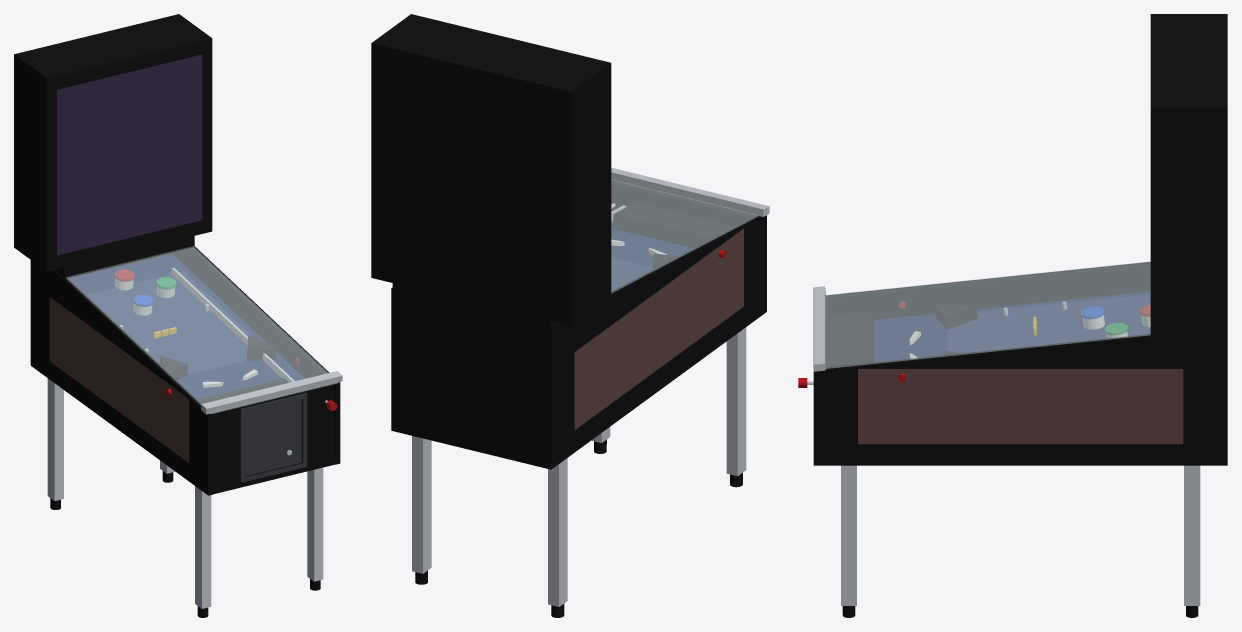
File: pinball.glb
3 renders of one model, left to right at view 1: azimuth 30°, elevation 25°; view 2: azimuth 150°, elevation 25°; view 3: azimuth 270°, elevation 25°, orthographic. The views are drawn at different scales.
Visible parts, largest first — view 1: cabinet, backbox, coin_door, leg_front_left, leg_back_left, leg_front_right; view 2: backbox, cabinet, leg_front_left, leg_back_left, leg_back_right; view 3: cabinet, backbox, leg_back_right, leg_front_right.
Part boxes in pixels (x1,y1,x2,y2): cabinet: [30, 236, 342, 495]; backbox: [14, 14, 212, 271]; coin_door: [245, 399, 301, 476]; leg_front_left: [195, 486, 211, 617]; leg_back_left: [47, 378, 63, 509]; leg_front_right: [307, 467, 323, 590]; backbox: [371, 14, 611, 326]; cabinet: [391, 167, 769, 469]; leg_front_left: [726, 327, 746, 487]; leg_back_left: [548, 458, 567, 617]; leg_back_right: [412, 436, 431, 584]; cabinet: [813, 261, 1227, 465]; backbox: [1150, 14, 1227, 332]; leg_back_right: [1184, 465, 1200, 617]; leg_front_right: [841, 465, 856, 617].
Bounding box in the file's own units: 0.75 × 1.95 × 1.45.
